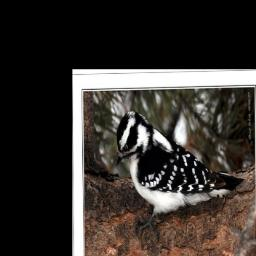Woodpecker: (117, 107, 249, 235)
